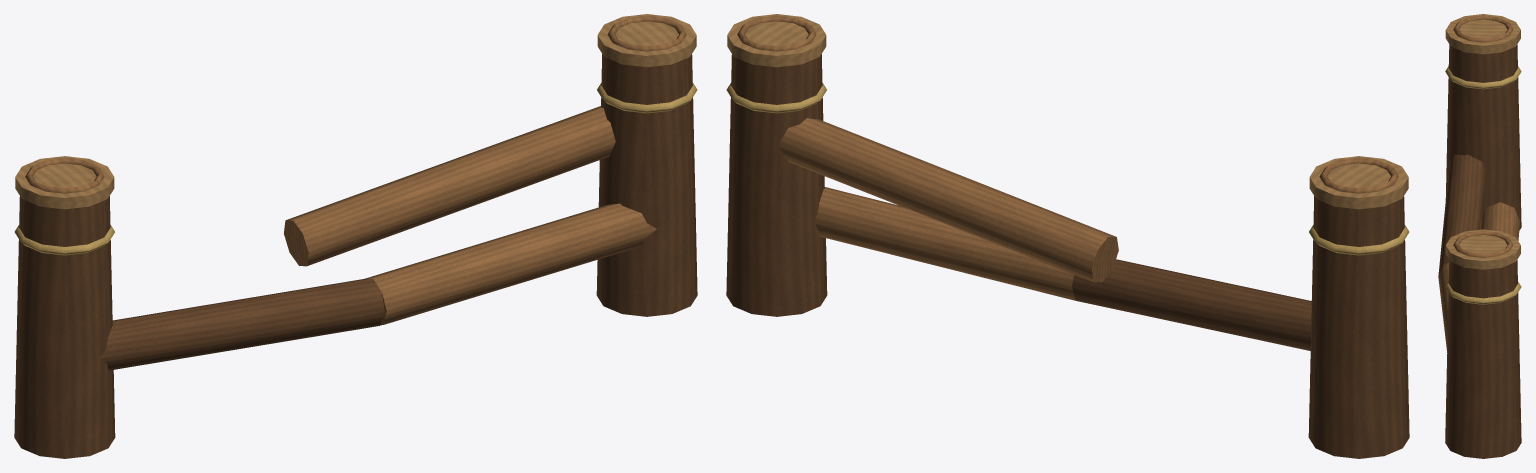
File: fence-2.fbx
3 views of the same model, side by side, from view 1: azimuth 30°, elevation 25°; view 2: azimuth 150°, elevation 25°; view 3: azimuth 270°, elevation 25° (orthographic). The views are drawn at different scales.
Parts seen in each view (by area): view 1: fence-2__Geometry; view 2: fence-2__Geometry; view 3: fence-2__Geometry.
Boxes of the visible parts, x1,y1,x2,y2 form: fence-2__Geometry: (14, 14, 697, 458); fence-2__Geometry: (726, 14, 1409, 458); fence-2__Geometry: (1438, 14, 1521, 458).
Size of the model in its own units: 2.76 by 1.04 by 0.3919.
